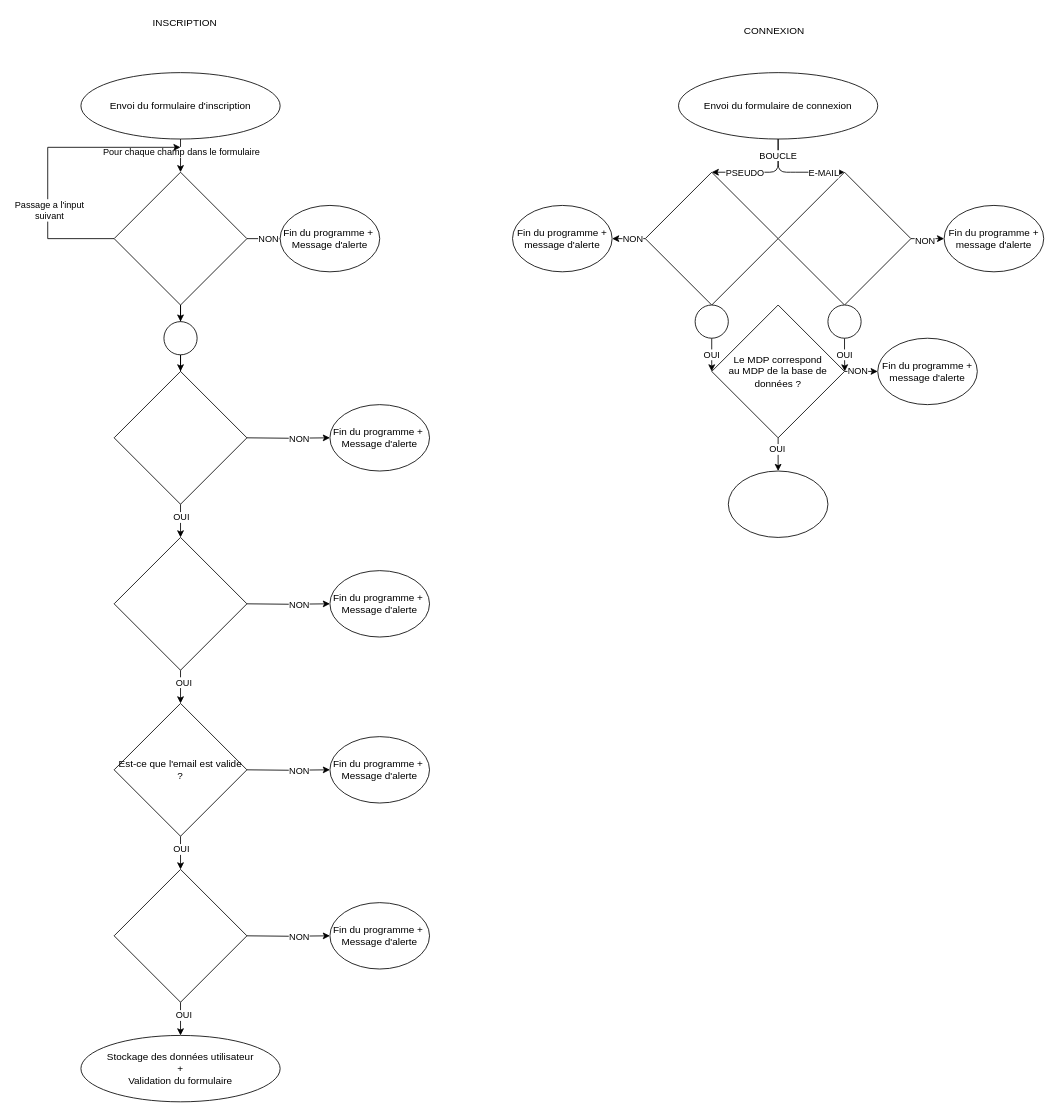
Image size: 1058x1116. Some labels were removed from this diagram. The shapes that lost their labels are listed below. From the top down, each one's centre as x and y in pixels, then its label:
At point 180,238: "Est-ce que le champ est rempli ?".
At point 711,238: "Le pseudo est-il dans la base de données ?".
At point 844,238: "L'e-mail est-il dans la base de données ?".
At point 180,437: "Est ce que le mot de passe fait + de 8 caractères ?".
At point 777,503: "Connexion de l'utilisateur".
At point 180,603: "Est-ce qu'il correspond au mdp de confirmation ?".
At point 180,935: "Le pseudo est-il dispo ?".
